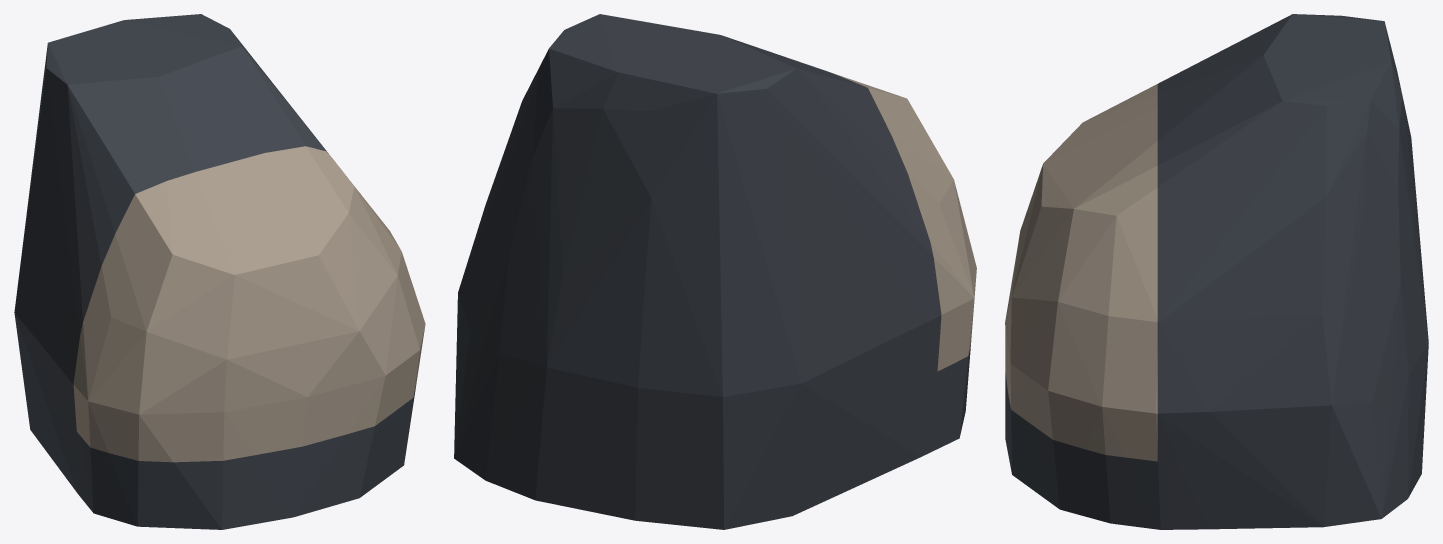
The model's file is boot_light.glb.
3 renders of one model, left to right at view 1: azimuth 30°, elevation 25°; view 2: azimuth 150°, elevation 25°; view 3: azimuth 270°, elevation 25°, orthographic. The views are drawn at different scales.
Parts seen in each view (by area): view 1: boot_light; view 2: boot_light; view 3: boot_light.
Boxes of the visible parts, x1=… form: boot_light: x1=14, y1=14, x2=425, y2=529; boot_light: x1=454, y1=14, x2=976, y2=529; boot_light: x1=1005, y1=14, x2=1428, y2=529.
Bounding box in the file's own units: 1 × 1 × 1.
